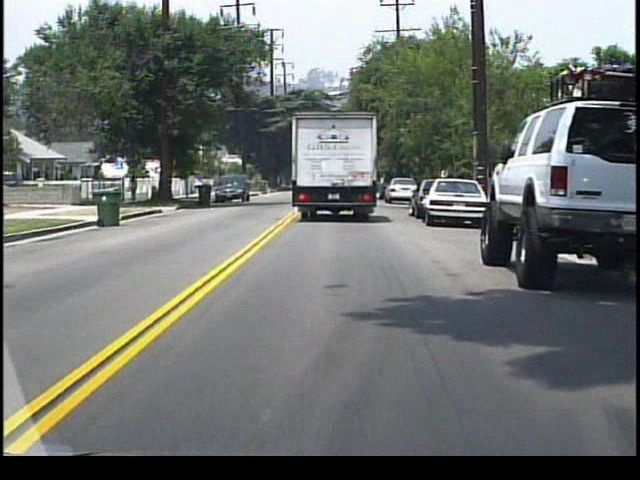person: (130, 173, 141, 203)
